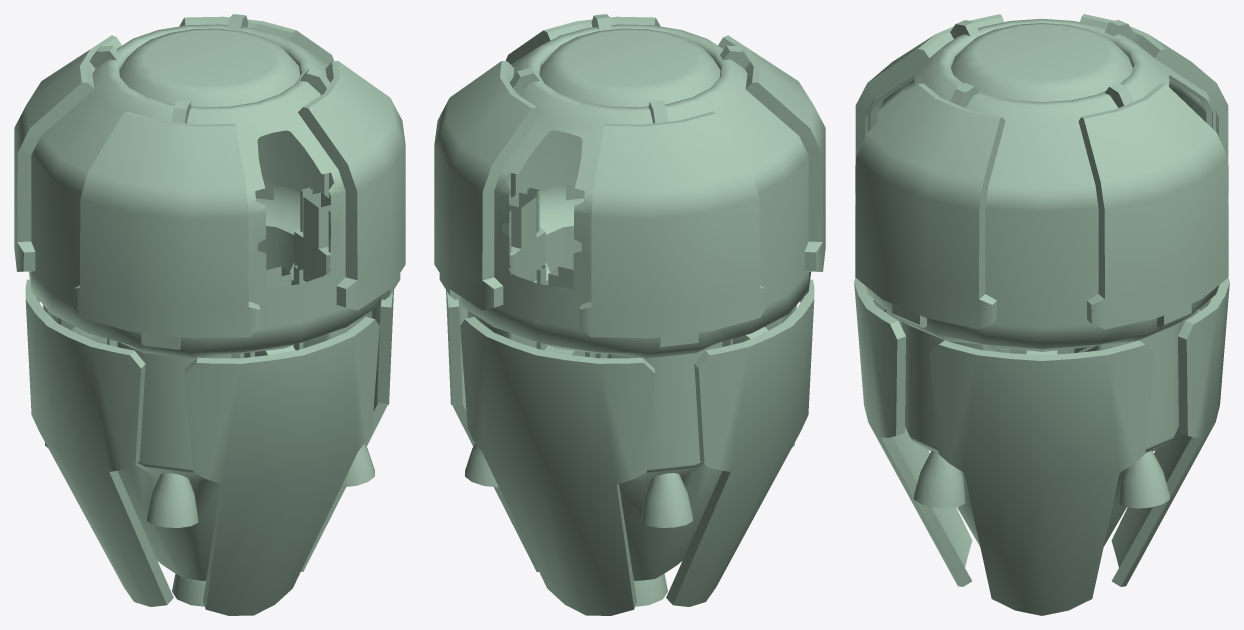
File: REENTRY_CRAFT_static_closed_holes_mesh.fbx
The picture shows the model from 3 angles, left to right: view 1: azimuth 30°, elevation 25°; view 2: azimuth 150°, elevation 25°; view 3: azimuth 270°, elevation 25°; orthographic projection.
Visible parts, largest first — view 1: EPOD_static_closed_holes_GEO; view 2: EPOD_static_closed_holes_GEO; view 3: EPOD_static_closed_holes_GEO.
Boxes of the visible parts, x1,y1,x2,y2 form: EPOD_static_closed_holes_GEO: [14, 14, 405, 615]; EPOD_static_closed_holes_GEO: [434, 14, 825, 615]; EPOD_static_closed_holes_GEO: [854, 14, 1229, 615].
Size of the model in its own units: 5.95 by 9.33 by 5.95.
